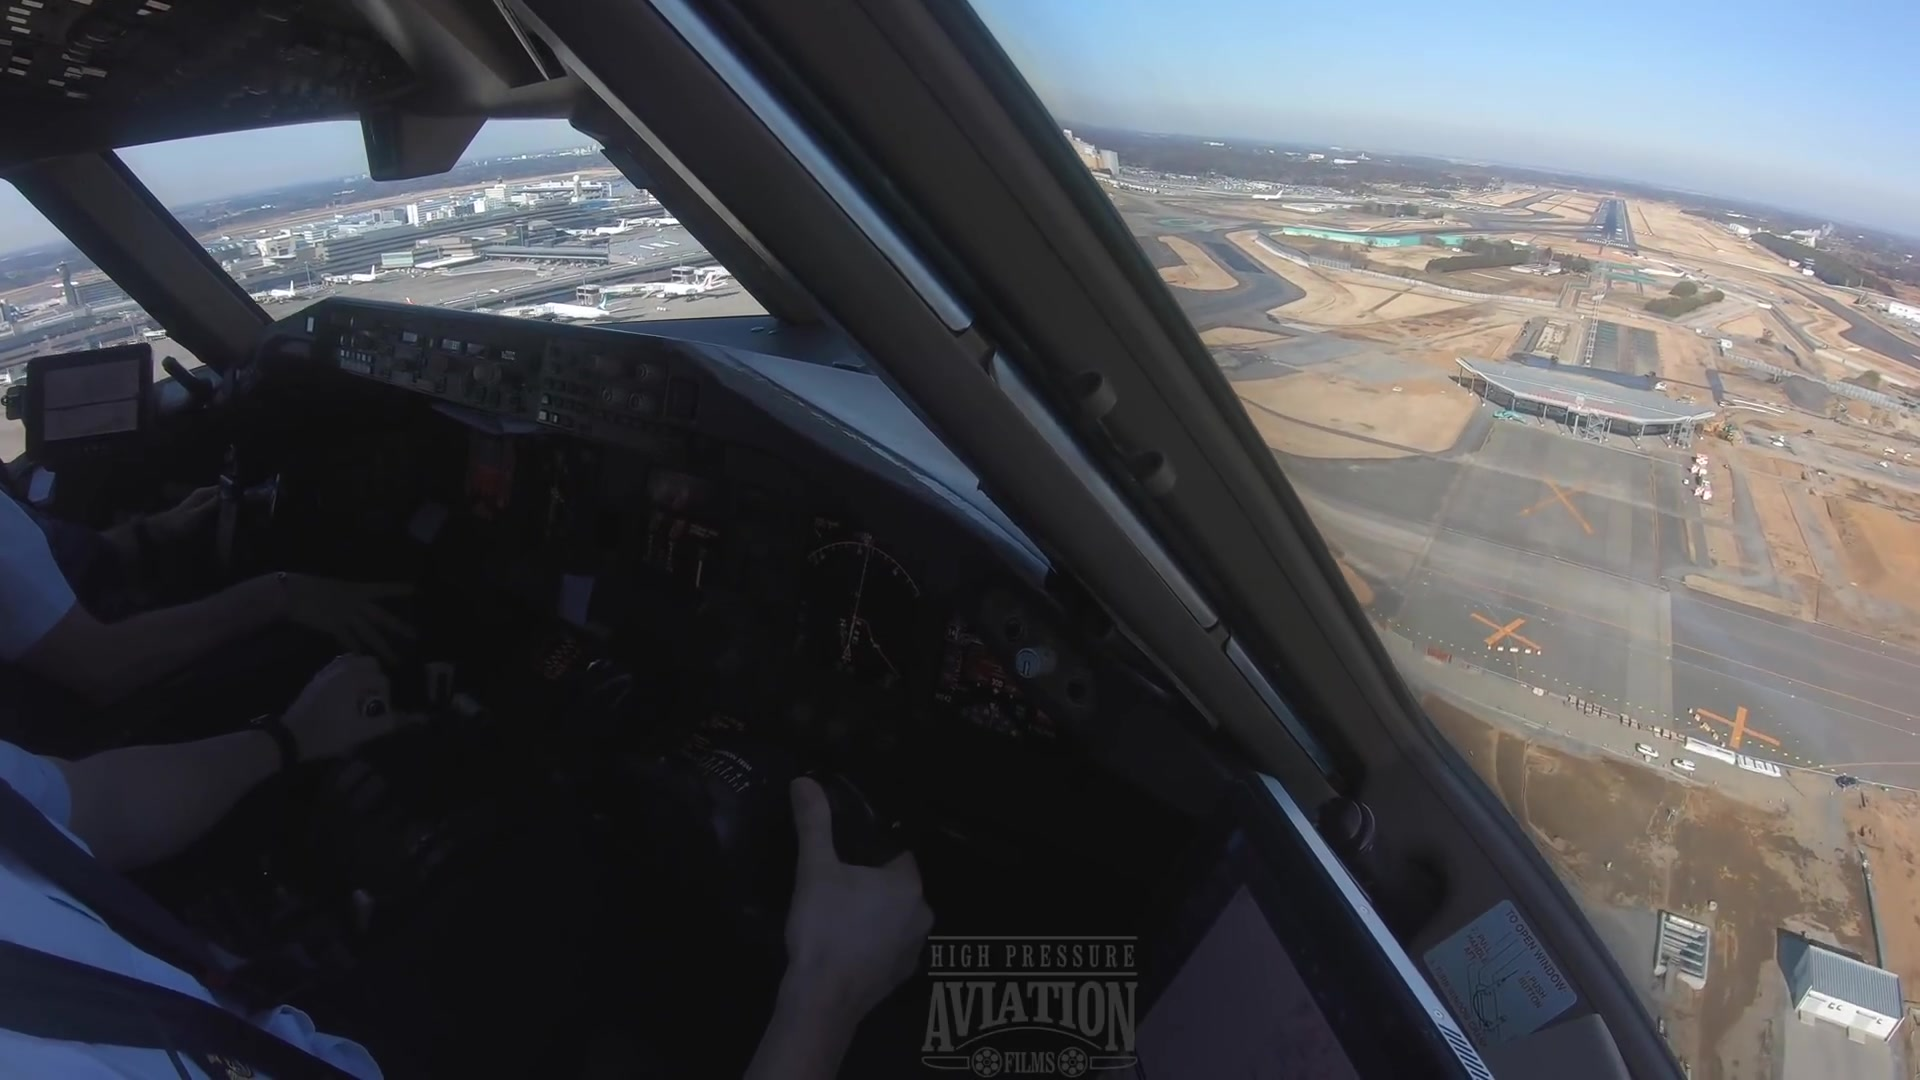entrance: (1586, 235, 1630, 248)
runway: (1582, 195, 1633, 253)
